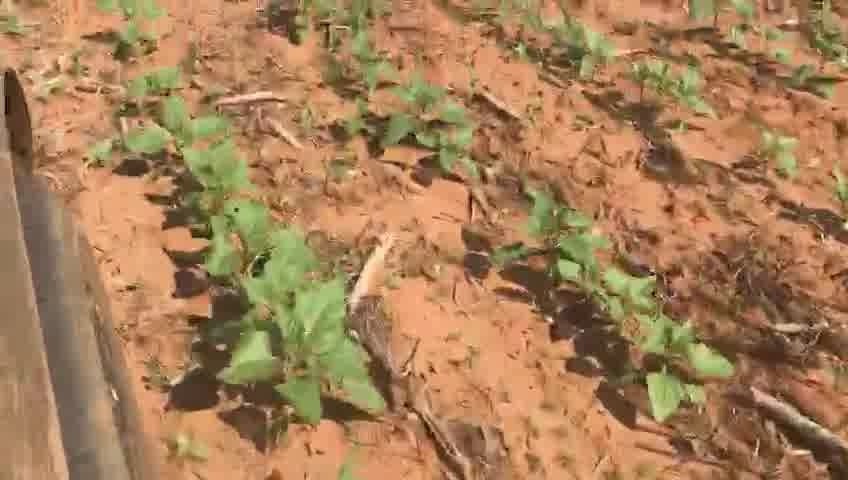sunflower: (215, 274, 391, 425), (192, 198, 330, 307), (622, 316, 739, 430), (117, 83, 229, 175), (165, 136, 262, 229), (517, 186, 611, 281), (570, 271, 666, 346), (376, 74, 475, 146), (626, 61, 724, 127), (553, 16, 626, 90), (410, 122, 481, 182), (325, 36, 396, 89), (753, 127, 810, 181)
